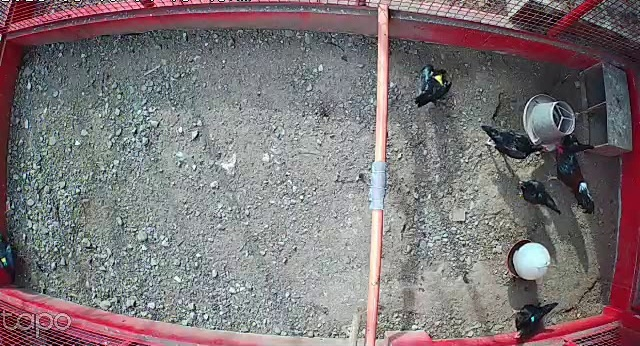Chicken: (478, 119, 546, 166), (507, 295, 560, 341), (414, 61, 454, 113), (514, 176, 560, 216), (560, 129, 598, 154)
Rooster: (540, 139, 595, 210)
Saddle_Color_Yellow: (433, 71, 445, 85)
